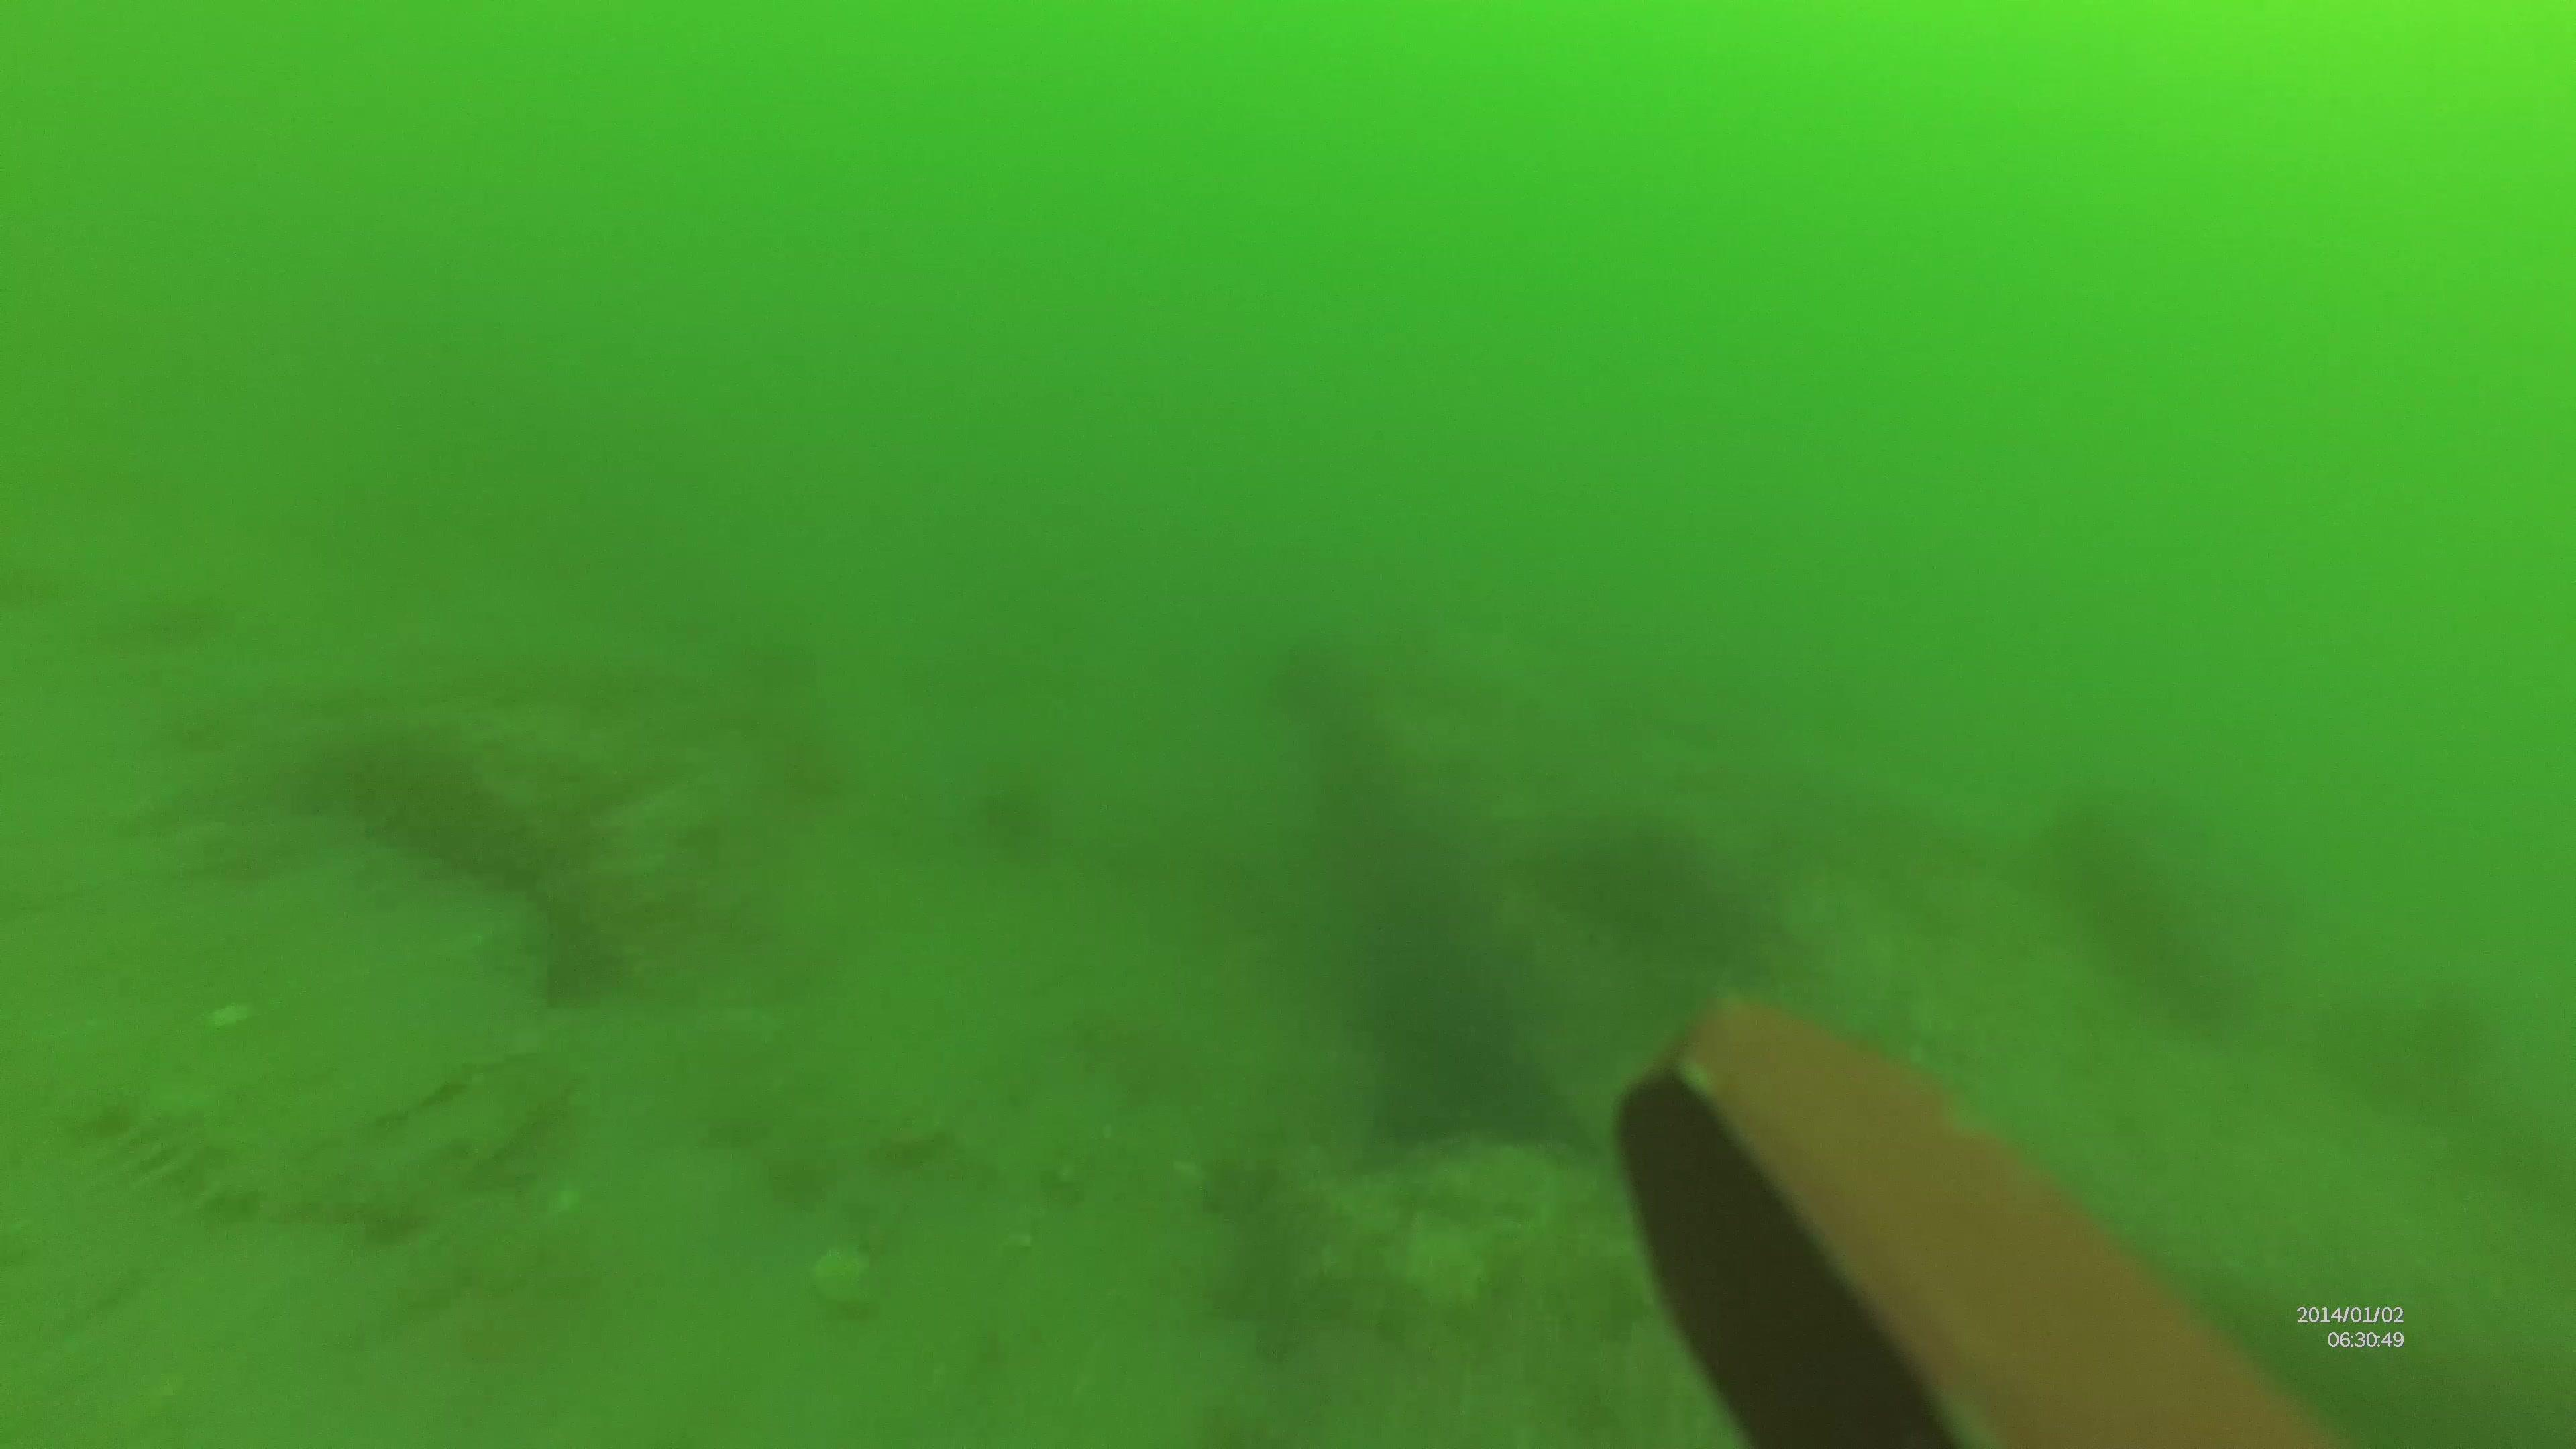holothurian: (81, 1054, 336, 1228)
